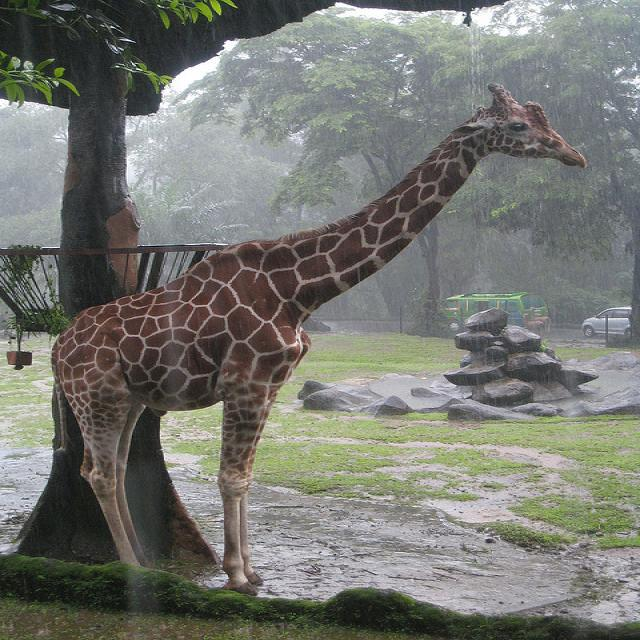Vehicle: (582, 306, 632, 339)
